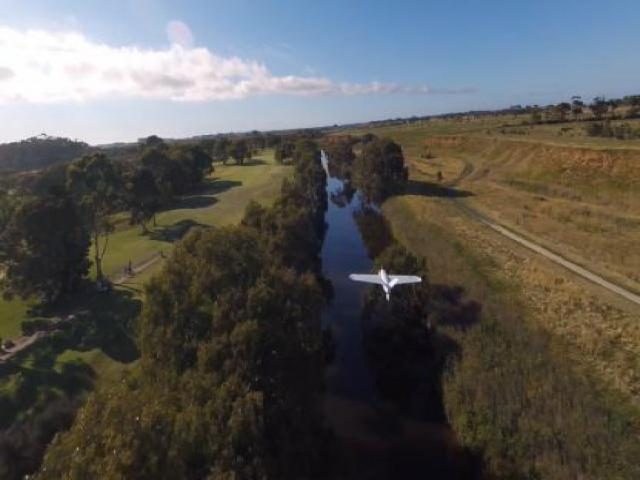uav: (348, 263, 422, 304)
